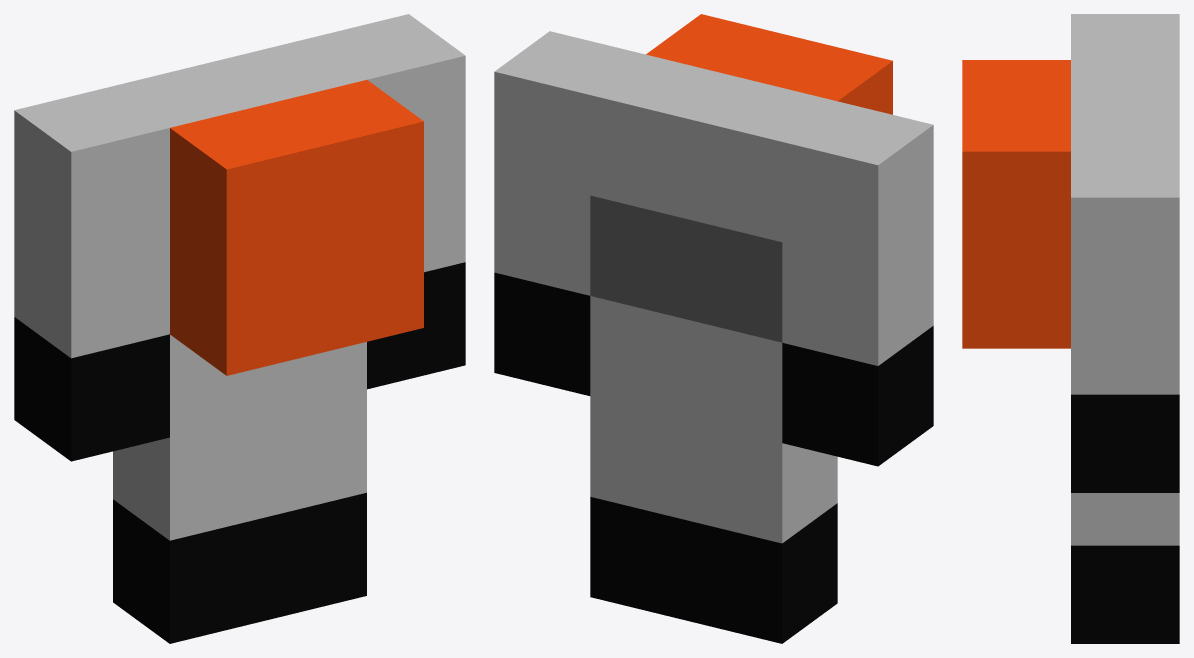
The model's file is spaceman_4.glb.
3 renders of one model, left to right at view 1: azimuth 30°, elevation 25°; view 2: azimuth 150°, elevation 25°; view 3: azimuth 270°, elevation 25°, orthographic. The views are drawn at different scales.
Bounding box in the file's own units: 4 × 5 × 2.
